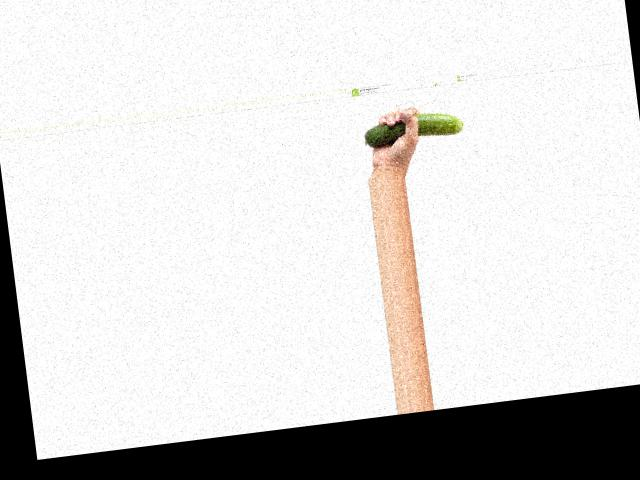cucumber: (363, 107, 464, 147)
